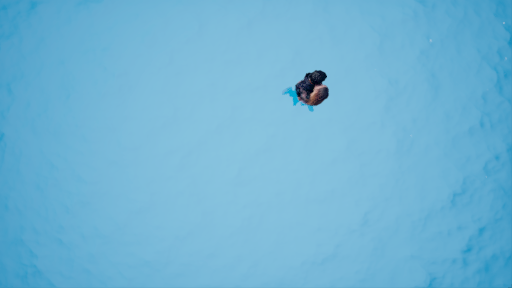person: (280, 70, 331, 113)
